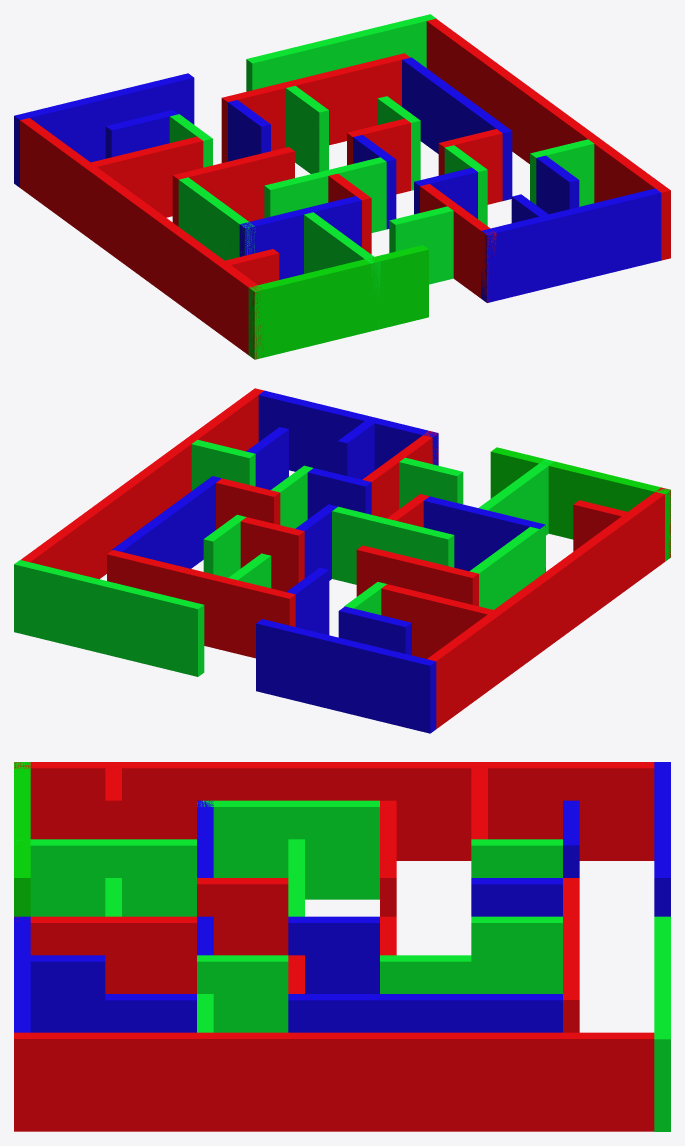
The model's file is easy3.fbx.
The picture shows the model from 3 angles, top to bottom: view 1: azimuth 30°, elevation 25°; view 2: azimuth 150°, elevation 25°; view 3: azimuth 270°, elevation 25°; orthographic projection. The views are drawn at different scales.
Visible parts, largest first — view 1: Curve.016, Curve.014, Curve.015, Curve.030, Curve.003, Curve, Curve.001, Curve.028, Curve.004, Curve.005, Curve.009, Curve.007 (+19 smaller); view 2: Curve.016, Curve.001, Curve, Curve.030, Curve.003, Curve.015, Curve.014, Curve.007, Curve.028, Curve.004, Curve.009, Curve.005 (+19 smaller); view 3: Curve.030, Curve.016, Curve.017, Curve.019, Curve.028, Curve.024, Curve.022, Curve.026, Curve.021, Curve.023, Curve.027, Curve.001 (+19 smaller).
Part boxes in pixels (bbox=[...]): Curve.016: bbox=[20, 118, 263, 359]; Curve.014: bbox=[248, 245, 428, 359]; Curve.015: bbox=[481, 188, 661, 302]; Curve.030: bbox=[426, 18, 670, 260]; Curve.003: bbox=[221, 53, 410, 162]; Curve: bbox=[14, 73, 194, 187]; Curve.001: bbox=[246, 14, 436, 91]; Curve.028: bbox=[402, 57, 512, 200]; Curve.004: bbox=[81, 136, 203, 236]; Curve.005: bbox=[172, 147, 294, 226]; Curve.009: bbox=[239, 196, 361, 279]; Curve.007: bbox=[264, 157, 386, 232]; Curve.016: bbox=[427, 487, 670, 728]; Curve.001: bbox=[14, 560, 204, 676]; Curve: bbox=[256, 619, 436, 733]; Curve.030: bbox=[21, 388, 264, 579]; Curve.003: bbox=[107, 550, 295, 658]; Curve.015: bbox=[258, 390, 438, 473]; Curve.014: bbox=[490, 447, 670, 561]; Curve.007: bbox=[332, 506, 454, 584]; Curve.028: bbox=[112, 476, 221, 568]; Curve.004: bbox=[381, 584, 503, 679]; Curve.009: bbox=[423, 496, 545, 571]; Curve.005: bbox=[356, 545, 478, 606]; Curve.030: bbox=[14, 1032, 654, 1131]; Curve.016: bbox=[14, 762, 654, 860]; Curve.017: bbox=[197, 800, 379, 899]; Curve.019: bbox=[14, 839, 196, 916]; Curve.028: bbox=[288, 994, 562, 1032]; Curve.024: bbox=[14, 916, 196, 993]; Curve.022: bbox=[471, 916, 562, 993]; Curve.026: bbox=[197, 955, 288, 1032]; Curve.021: bbox=[197, 878, 288, 955]; Curve.023: bbox=[288, 916, 379, 993]; Curve.027: bbox=[14, 955, 105, 1032]; Curve.001: bbox=[654, 916, 670, 1131].
Bounding box in the file's own units: 2028 × 316 × 2030.
